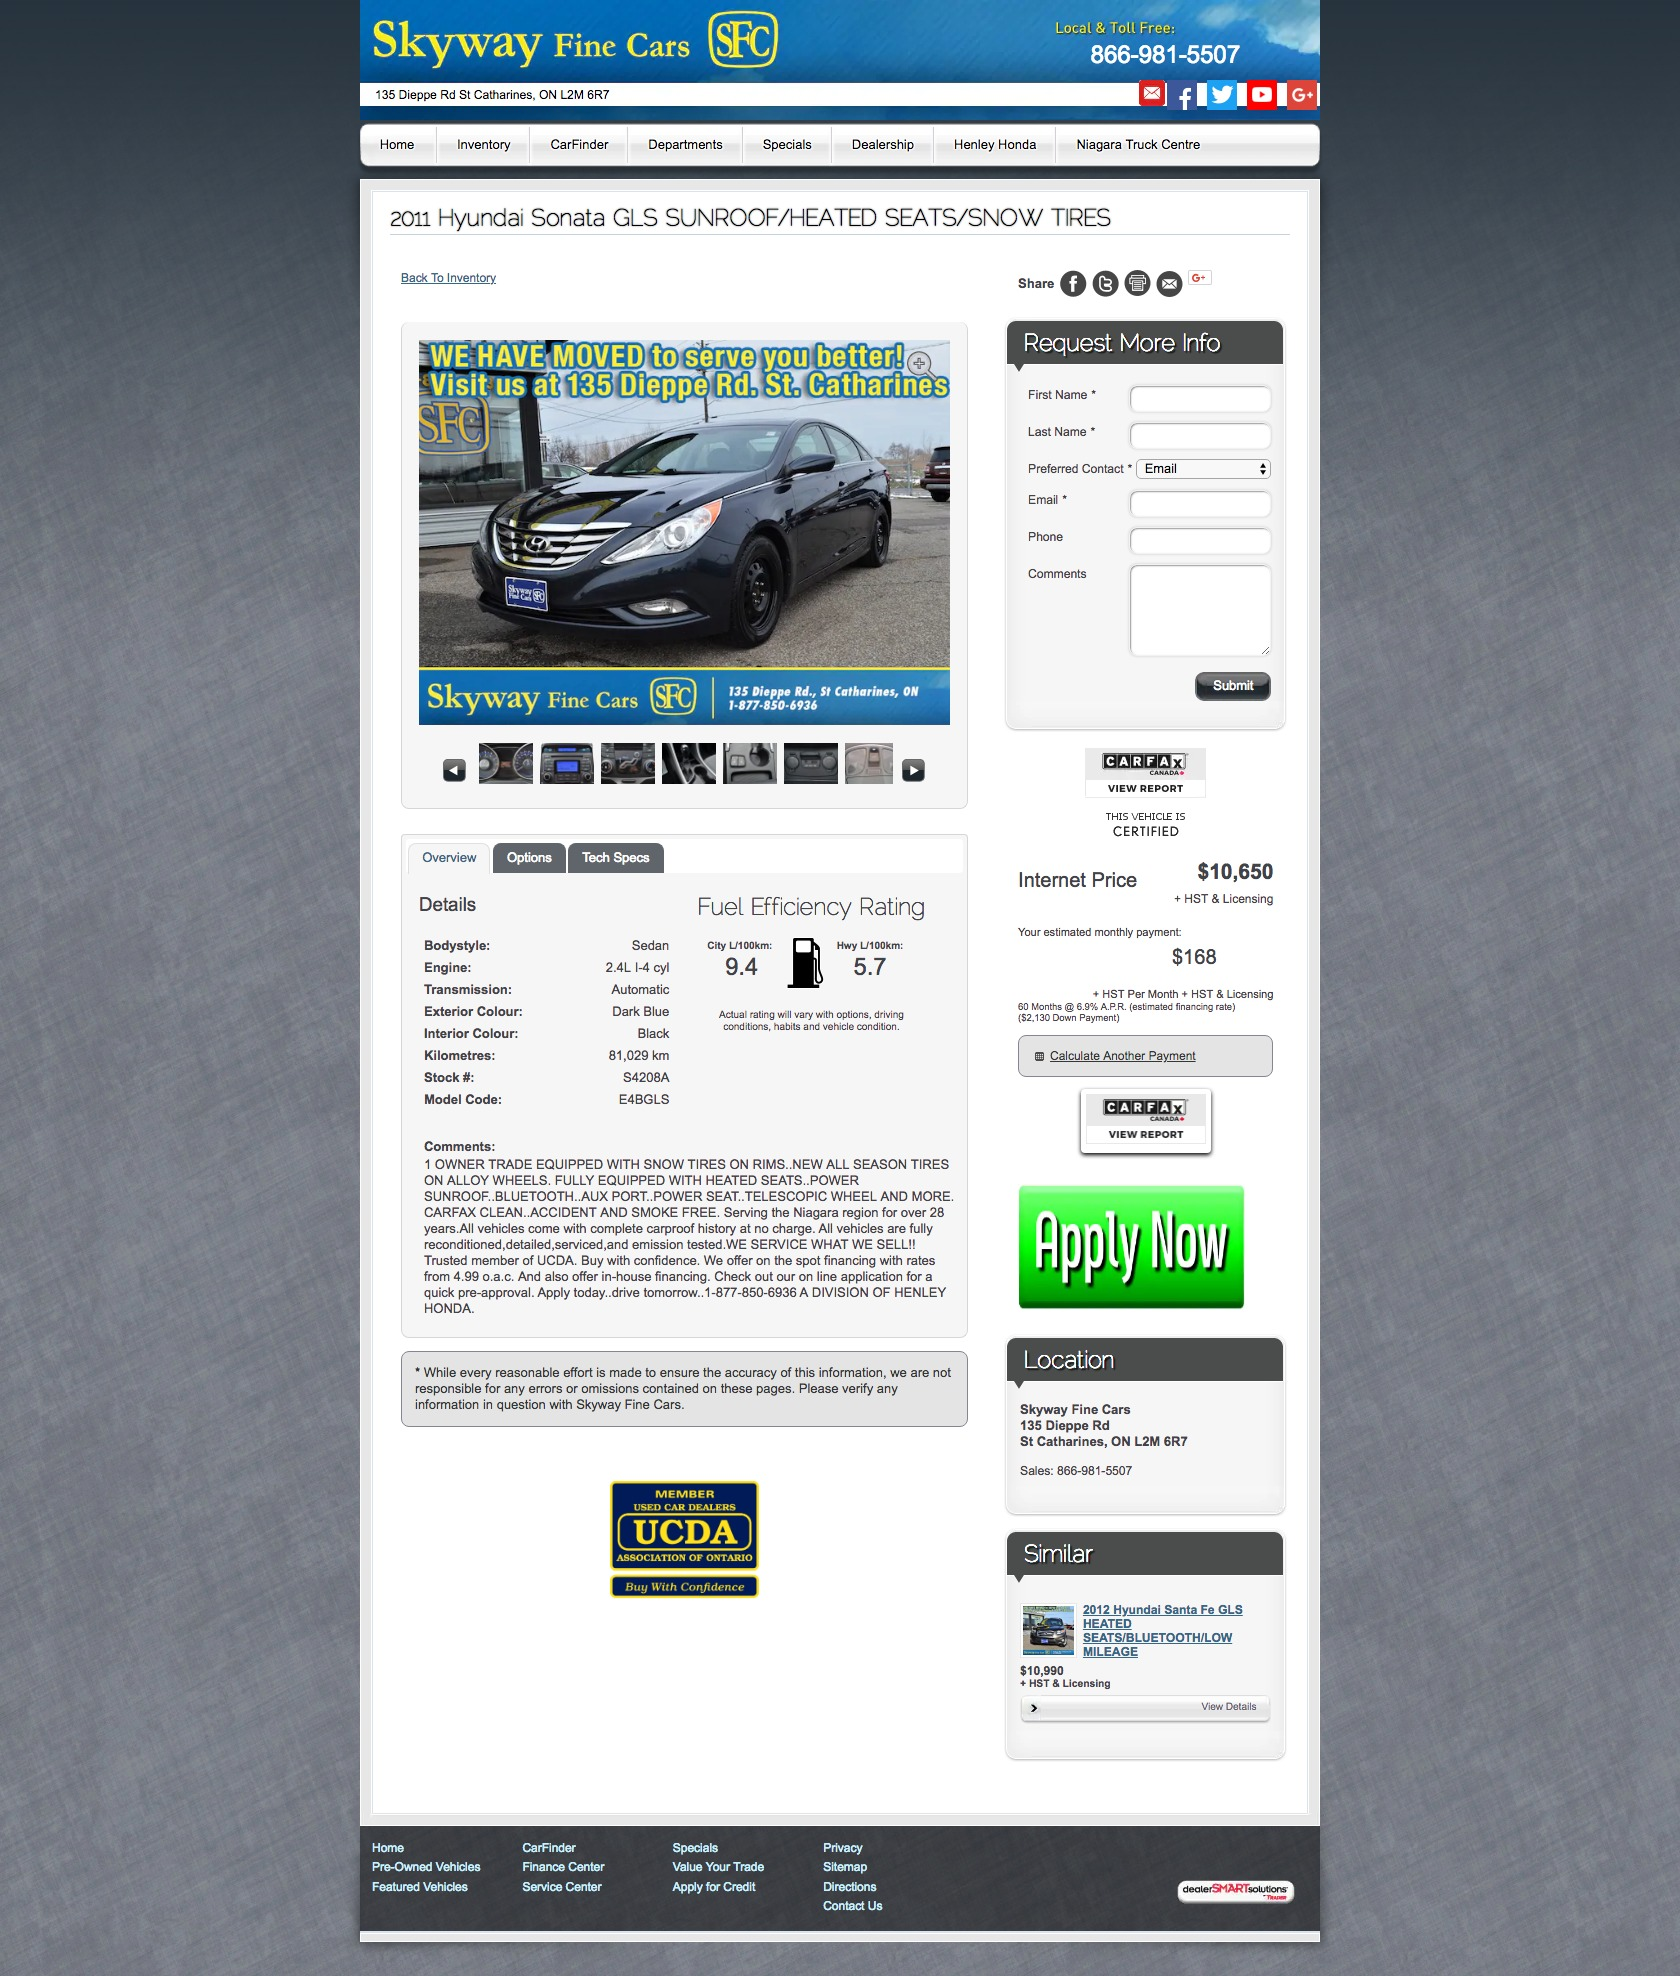car: (902, 760, 927, 783)
